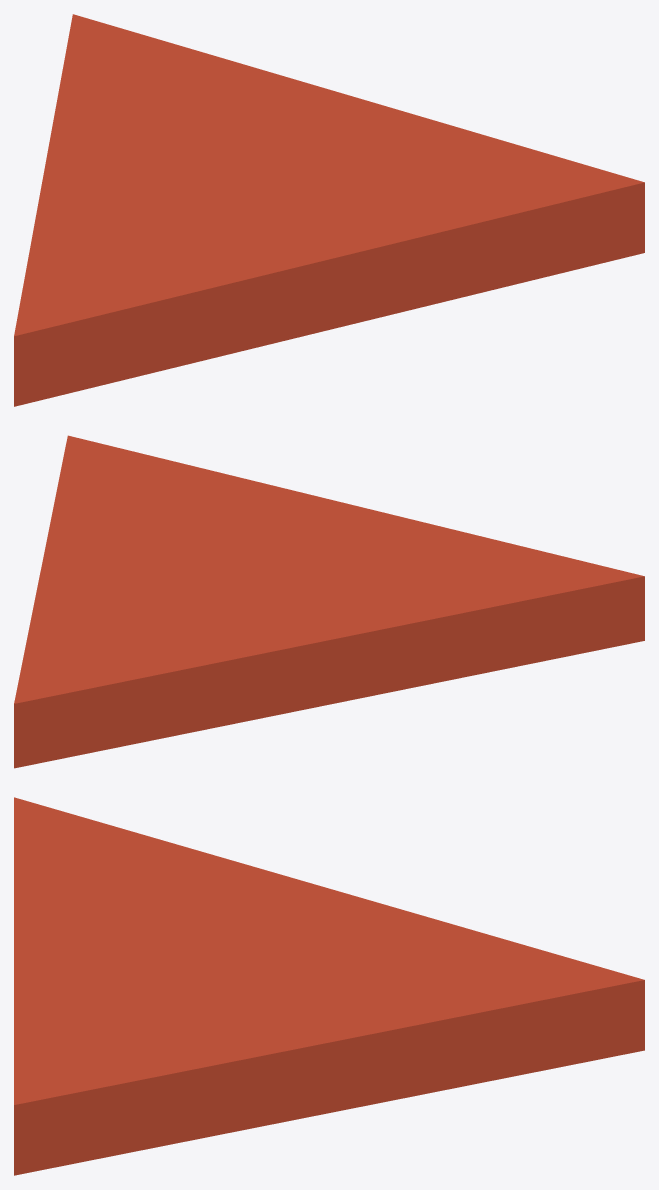
The picture shows the model from 3 angles, top to bottom: view 1: azimuth 30°, elevation 25°; view 2: azimuth 150°, elevation 25°; view 3: azimuth 270°, elevation 25°; orthographic projection. The views are drawn at different scales.
Visible parts, largest first — view 1: Cylinder; view 2: Cylinder; view 3: Cylinder.
Boxes of the visible parts, bbox=[...] form: Cylinder: bbox=[14, 14, 644, 406]; Cylinder: bbox=[14, 435, 644, 768]; Cylinder: bbox=[14, 797, 644, 1175].
Size of the model in its own units: 34.68 by 3.71 by 30.04.
